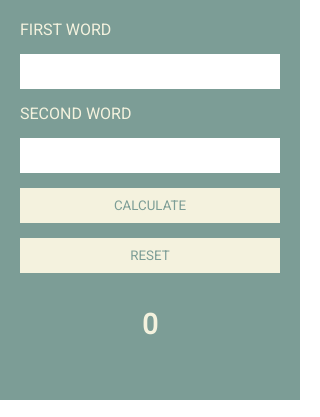
Given a Form component › When it is rendered and the user enter 'hi' and 'pi' and clicks the calculate button › Then it should show a heading with the text '1'
In the field labelled "First word": (150, 72) [20,54,280,89], type "hi"
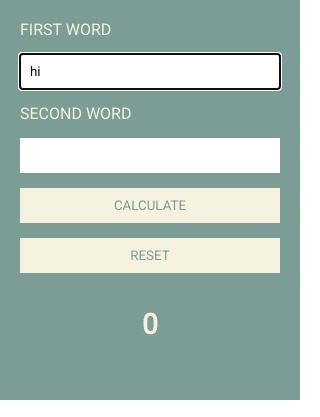
In the field labelled "Second word": (150, 156) [20,138,280,173], type "pi"
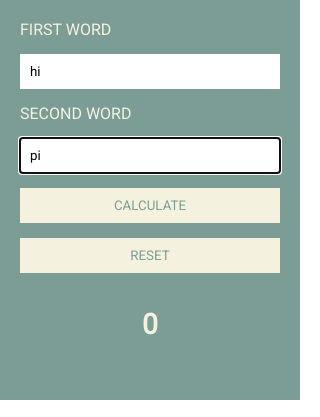
Click the button "Calculate": (150, 206) [20,188,280,223]
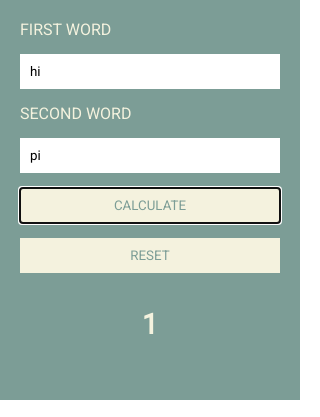
Expected: the heading "1" is shown, [142,308,158,341]
